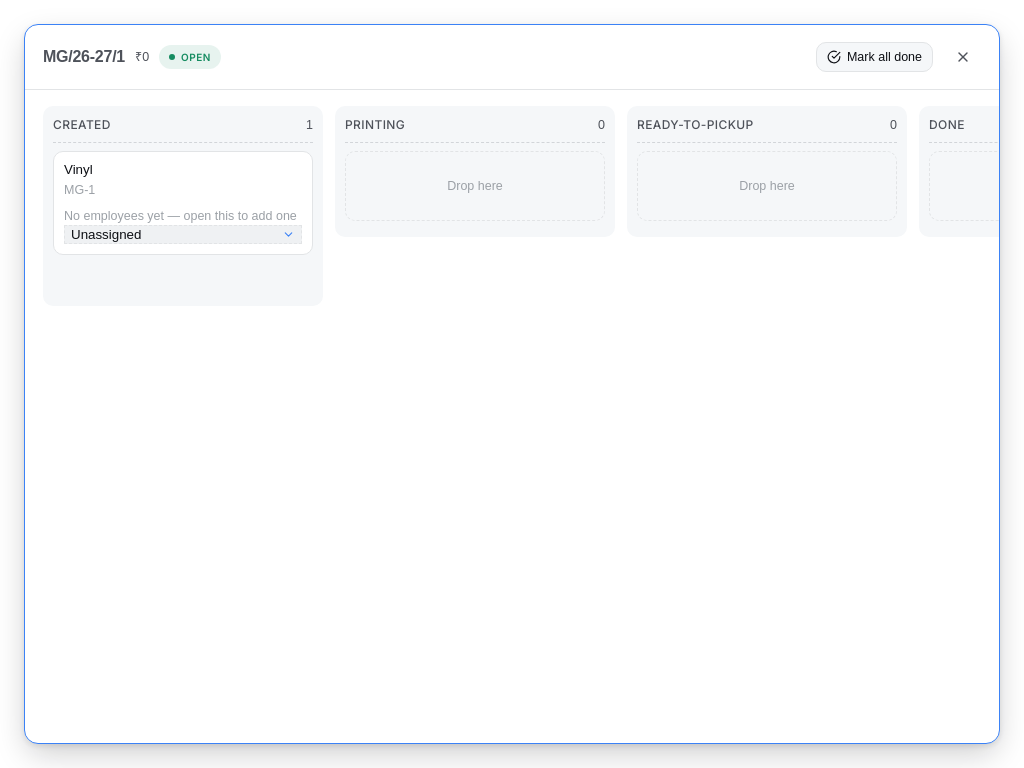
Test case: adding someone without leaving the board › opens the new-employee form with the typed name already in it
This screenshot has width=1024, height=768.
Click the button "Unassigned": (183, 234) [64,225,302,244]
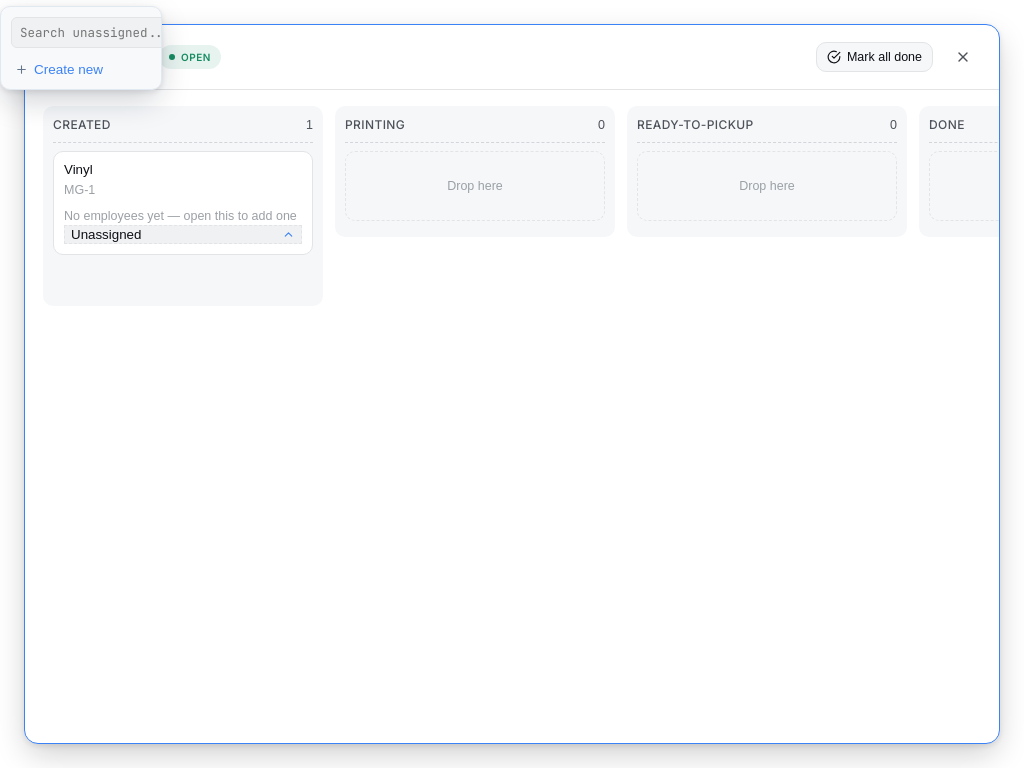
In the field with placeholder "Search unassigned...": (90, 32) [11,17,169,48], type "Sunil"
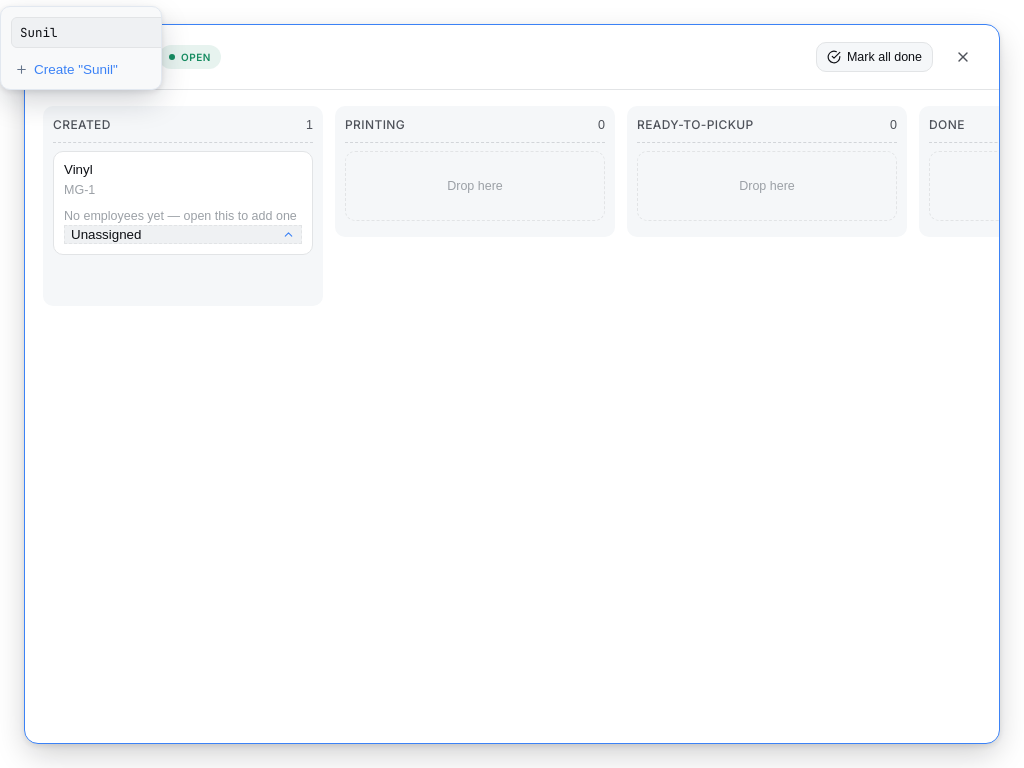
Click the button "Create \"Sunil\"": (81, 70) [5,54,157,85]
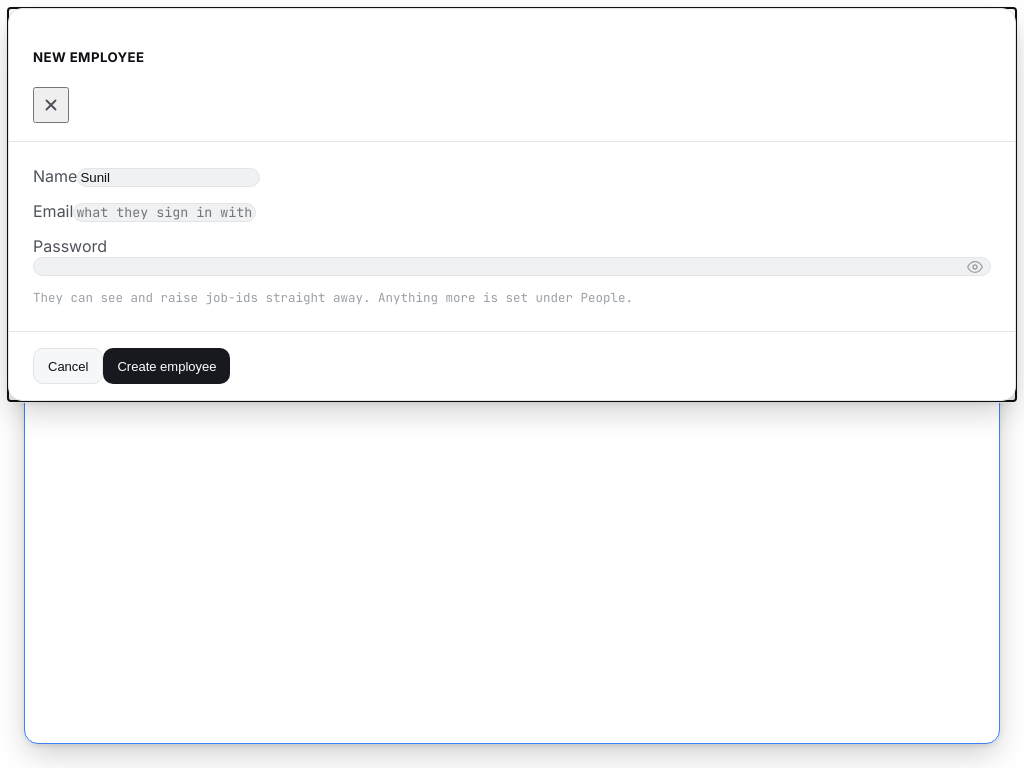
Check: the field labelled "Name" holds "Sunil", box [77,168,260,187]
Check: the field labelled "Email" is shown, box [73,203,256,222]
Check: the password field labelled "Password" is shown, box [33,257,991,276]
